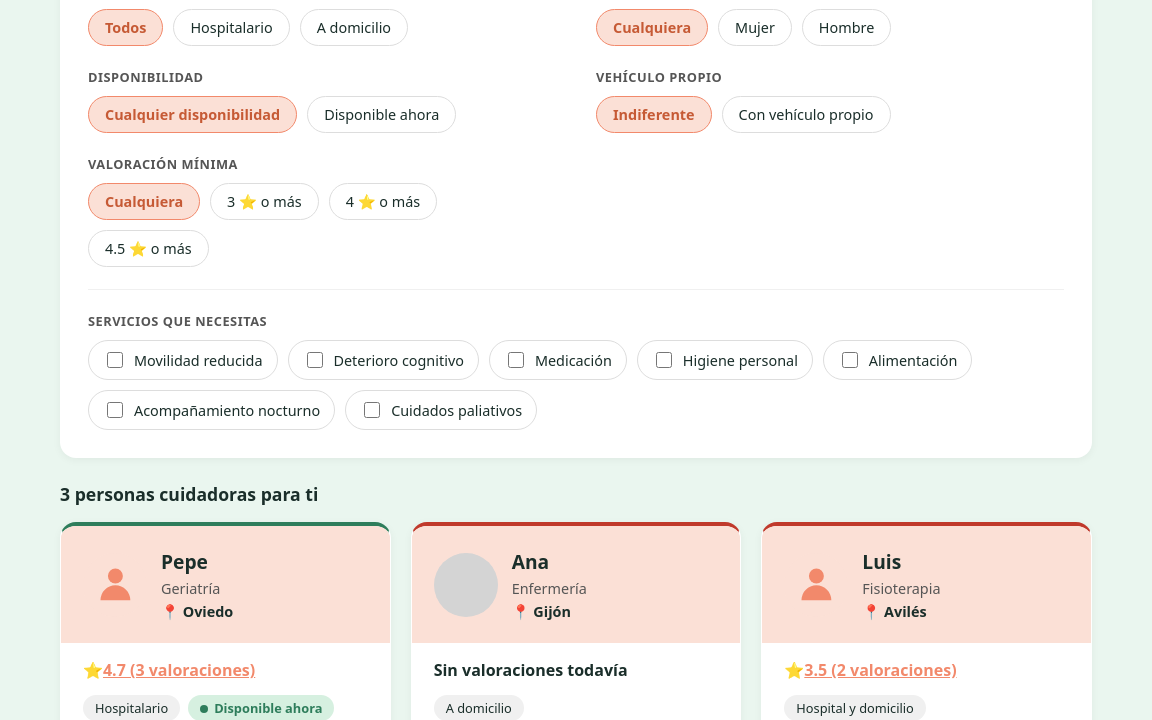
BuscarView › al desmarcar los servicios vuelven a salir todos
The width and height of the screenshot is (1152, 720).
(page scrolled)
Step 1. Click the checkbox with id "filtro-servicio-medicacion" → (516, 360), box x1=508 y1=352 x2=524 y2=368
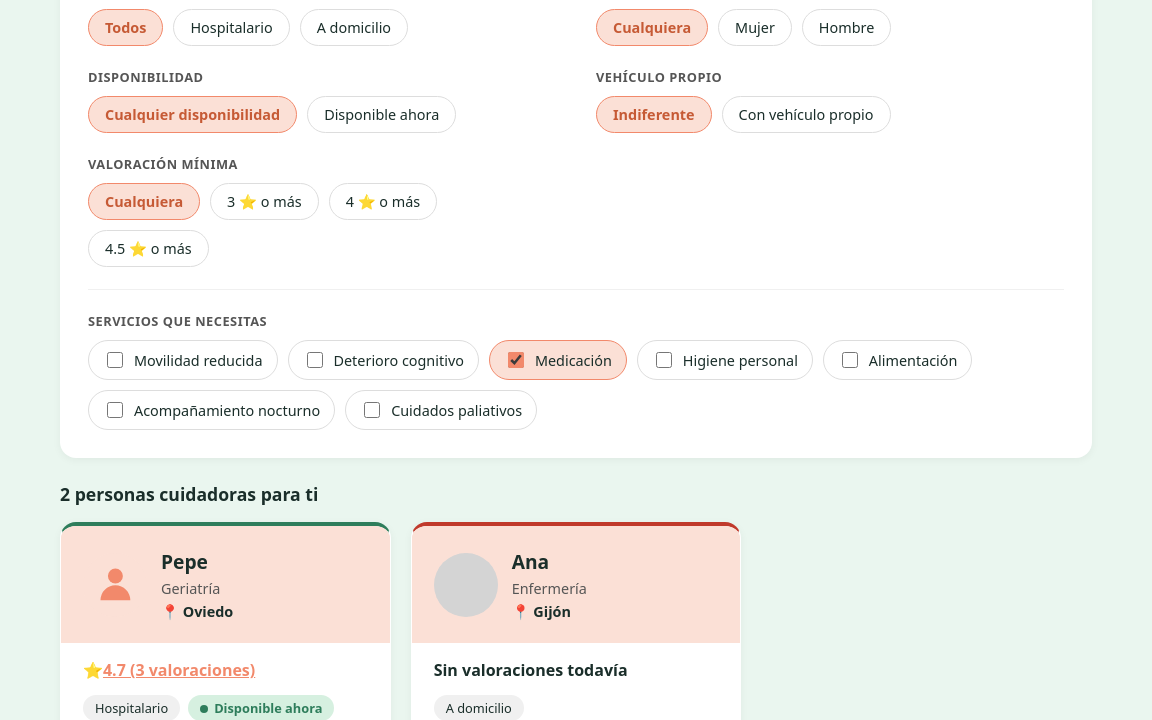
Step 2. Click the checkbox with id "filtro-servicio-medicacion" → (516, 360), box x1=508 y1=352 x2=524 y2=368
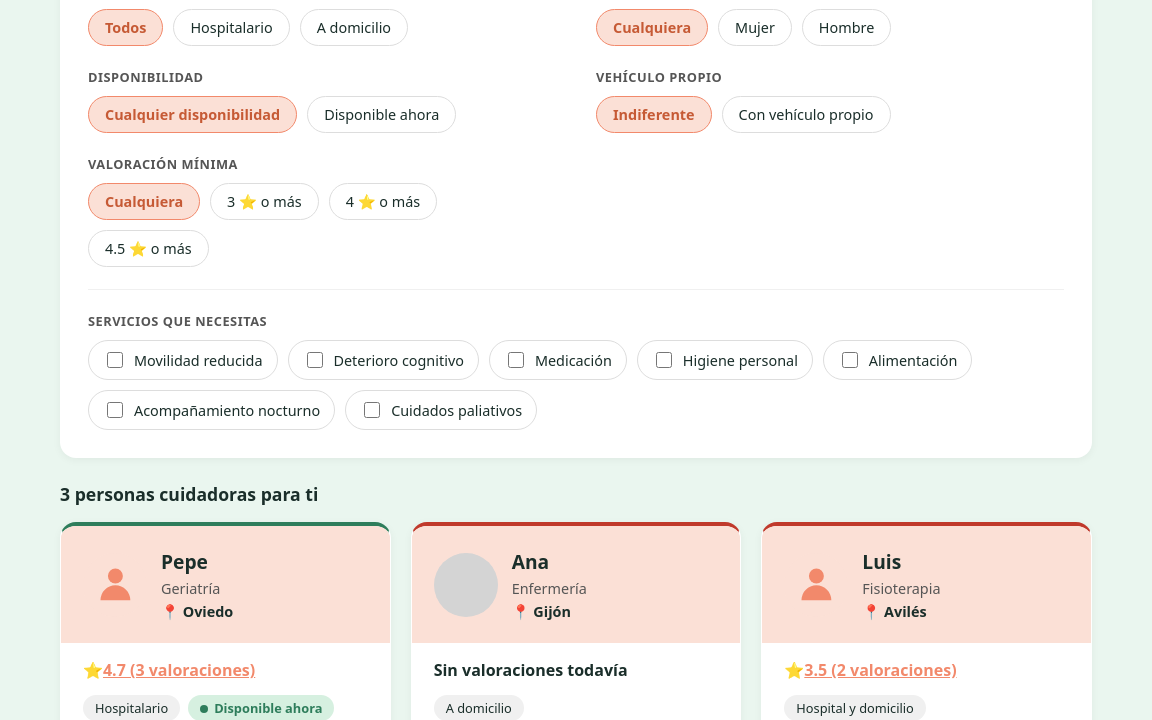
Expected: the text "Pepe" is shown, x1=161 y1=548 x2=208 y2=575
Now the text "Luis" is shown, box x1=862 y1=548 x2=901 y2=575
